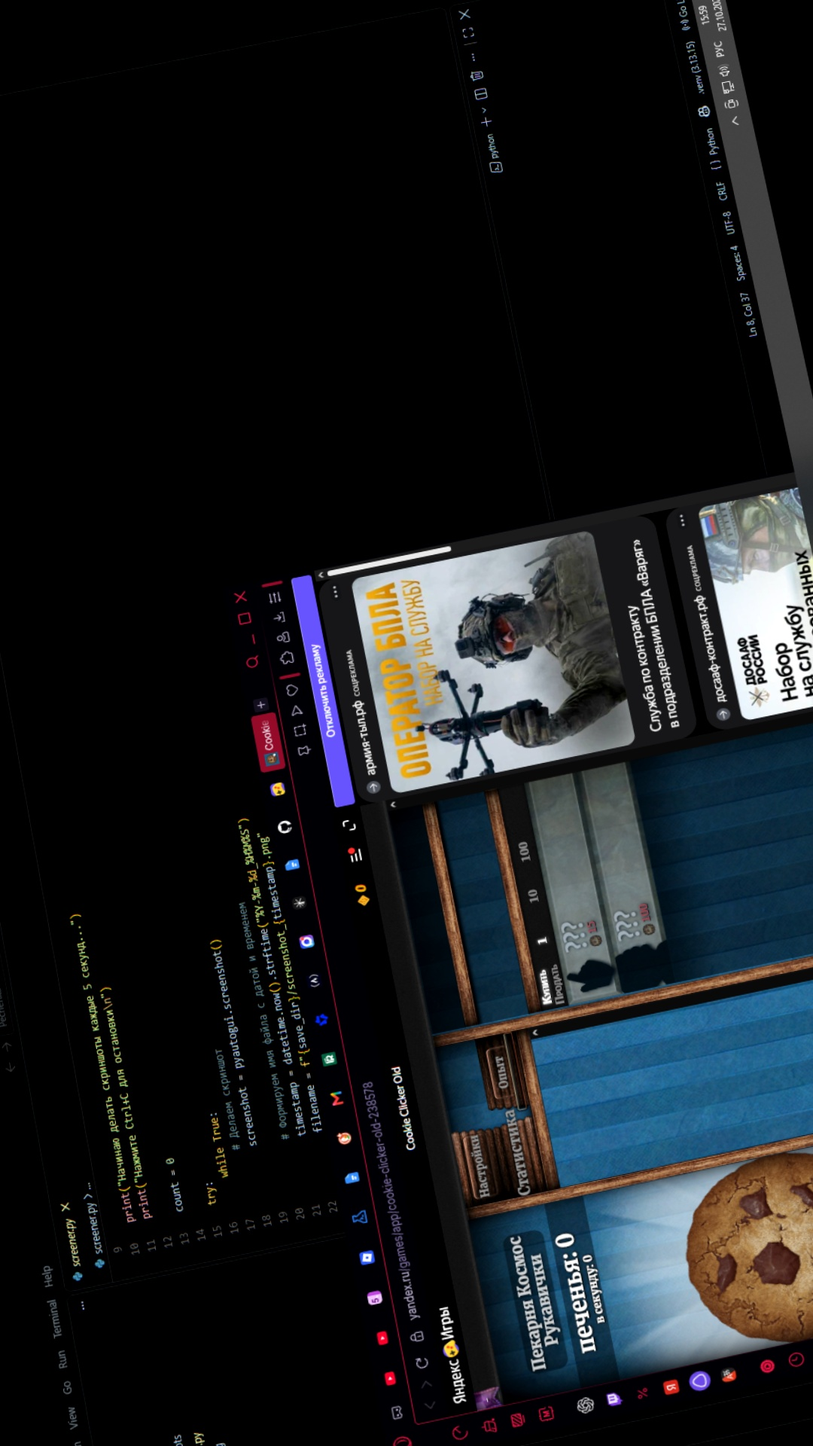game: (687, 1164, 813, 1332)
pokypki: (495, 768, 693, 1000)
